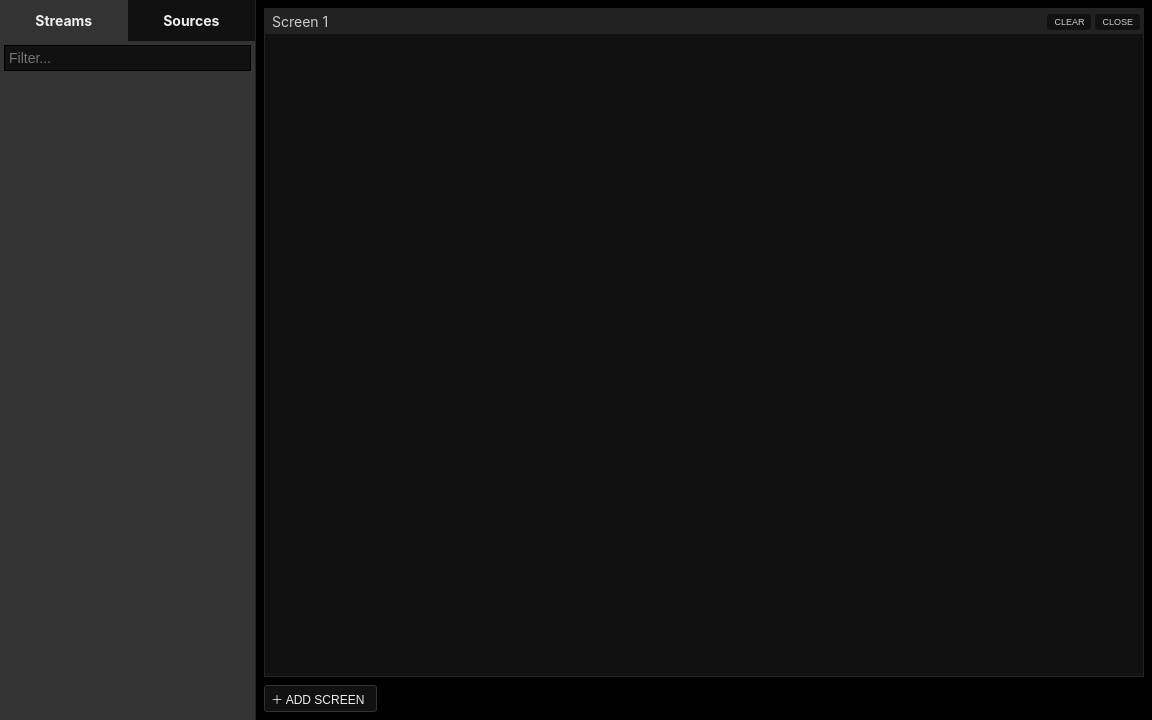
Test: render messages to screen
This screenshot has width=1152, height=720.
Click the button with test id "add-screen-btn": (321,698) x1=264 y1=685 x2=377 y2=712
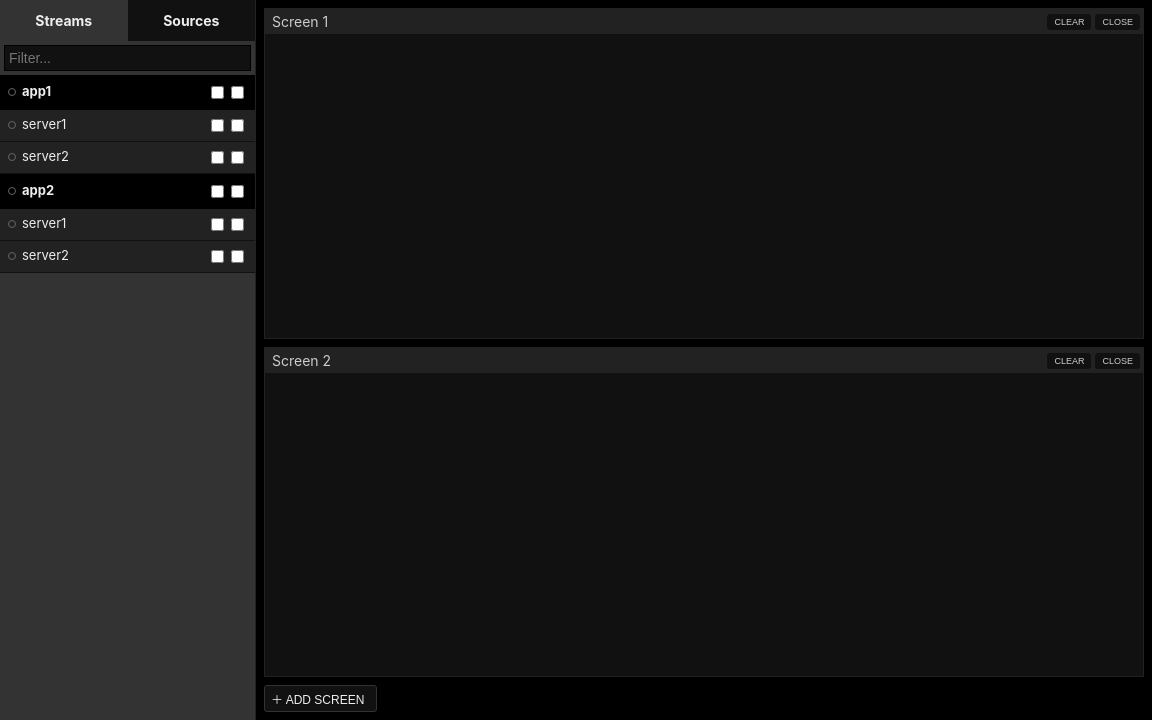
Click the checkbox with test id "group-control-app1:0": (218,92) x1=211 y1=86 x2=224 y2=99
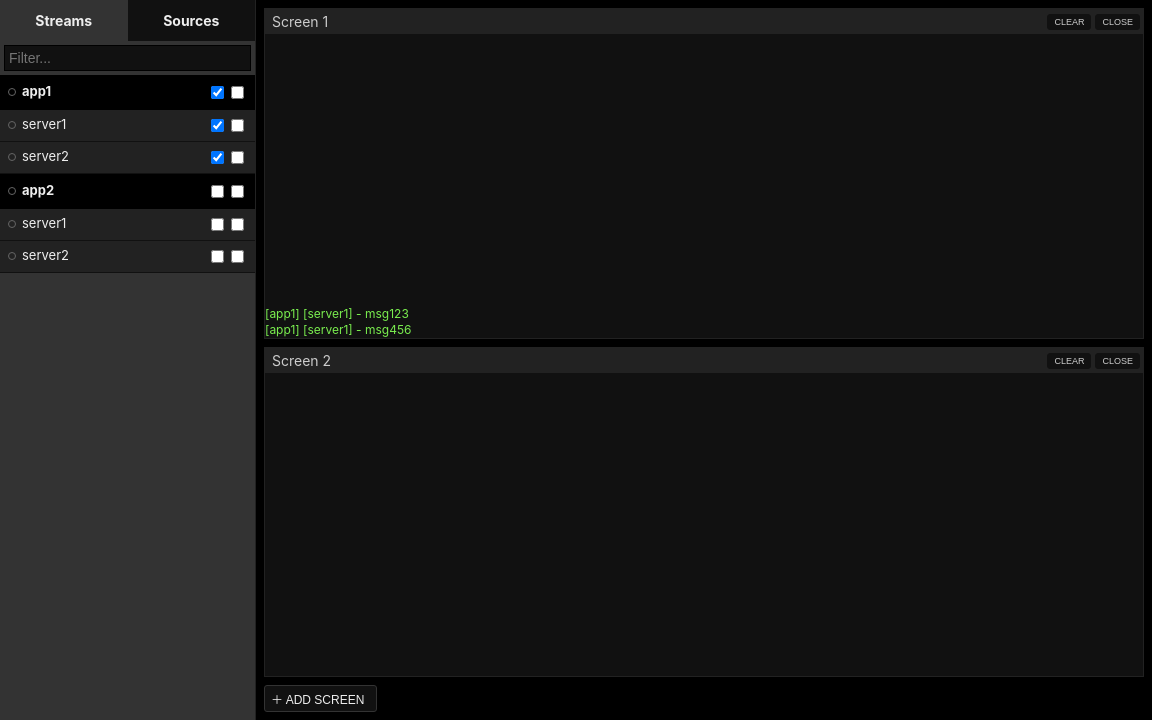
Check: the text "[app1] [server1] - msg123" is shown, box x1=265 y1=306 x2=409 y2=320
Check: the text "[app1] [server1] - msg456" is shown, box x1=265 y1=322 x2=412 y2=336
Click the checkbox with test id "input-control-app1|server1:0": (218,126) x1=211 y1=119 x2=224 y2=132
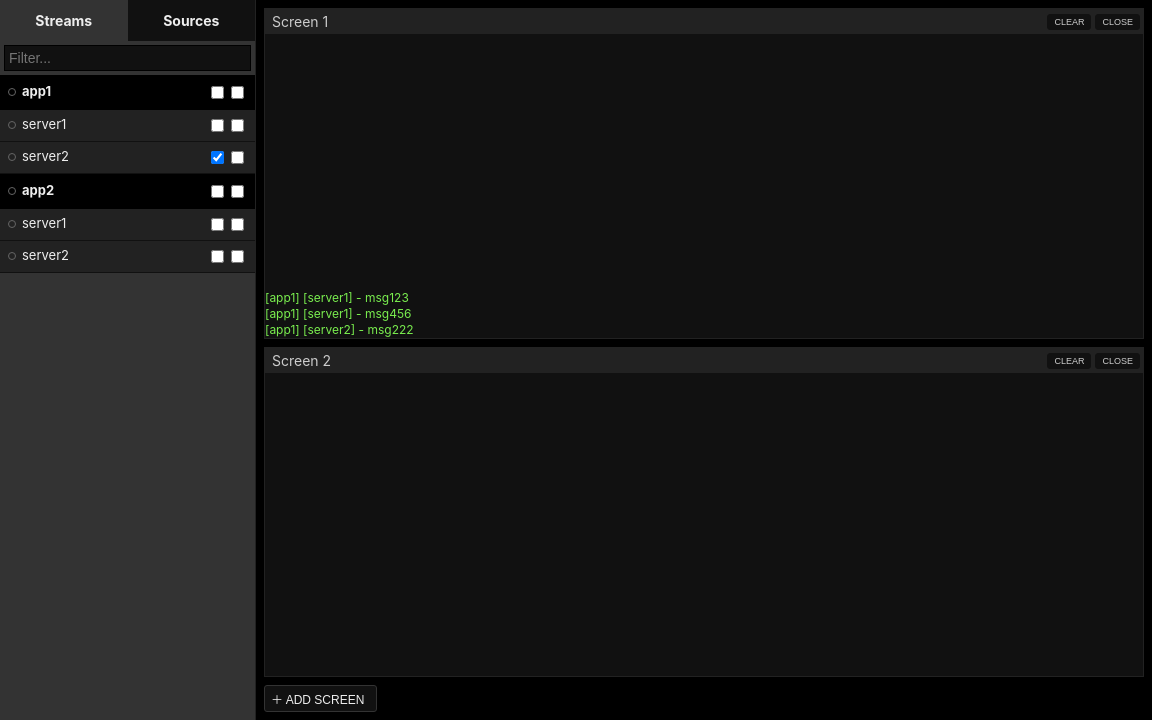
Check: the text "[app1] [server2] - msg222" is shown, box x1=265 y1=322 x2=414 y2=336
